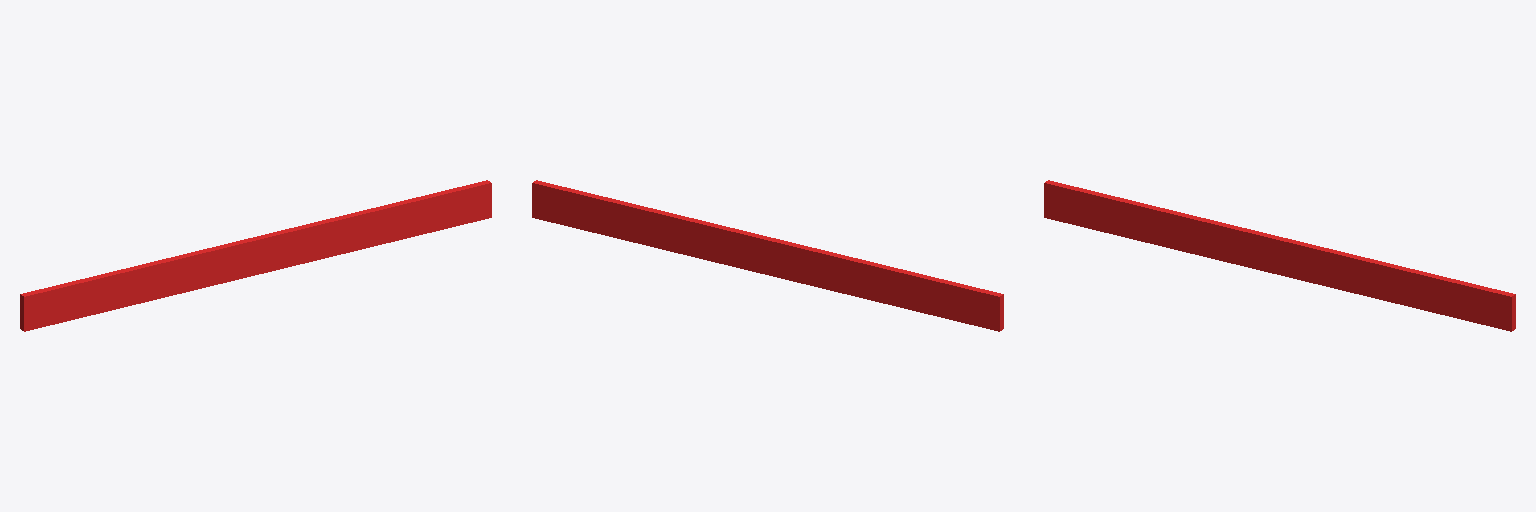
The robot description file, URDF, robot "enclosure wall maze L":
<?xml version="1.0"?>
<robot name="enclosure wall maze L">
    <!-- Colors -->
    <material name="red">
        <color rgba="0.941 0.204 0.204 1"/>
    </material>

    <!-- Wall -->
    <link name="base_link">
        <visual>
            <geometry>
                <box size="35 0.5 2.5" />
                <origin rpy="0 0 0" xyz="0 0 0"/>
            </geometry>
            <material name="red"/>
        </visual>

        <collision>
             <geometry>
                <box size="35 0.5 2.5" />
                <origin rpy="0 0 0" xyz="0 0 0"/>
            </geometry>
        </collision>
        <inertial>
            <mass value="0"/>
            <inertia ixx="0" ixy="0" ixz="0" iyy="0" iyz="0" izz="0"/>
        </inertial>
    </link>
</robot>

--- Render facts (derived) ---
3 views of the same robot in one strip: view 1: azimuth 30°, elevation 25°; view 2: azimuth 150°, elevation 25°; view 3: azimuth 330°, elevation 25° (orthographic).
Robot: enclosure wall maze L — 1 links, 0 joints (none); root link base_link; default pose: all joints at 0.
Visible links, largest first — view 1: base_link; view 2: base_link; view 3: base_link.
Link boxes in pixels (box(x1,y1,x2,y2)): base_link: box(20, 180, 491, 331); base_link: box(532, 180, 1003, 331); base_link: box(1044, 180, 1515, 331).
Size in the robot's own frame: 35 by 0.5 by 2.5 metres.
Geometry: primitives only (box / cylinder / sphere), no mesh files.